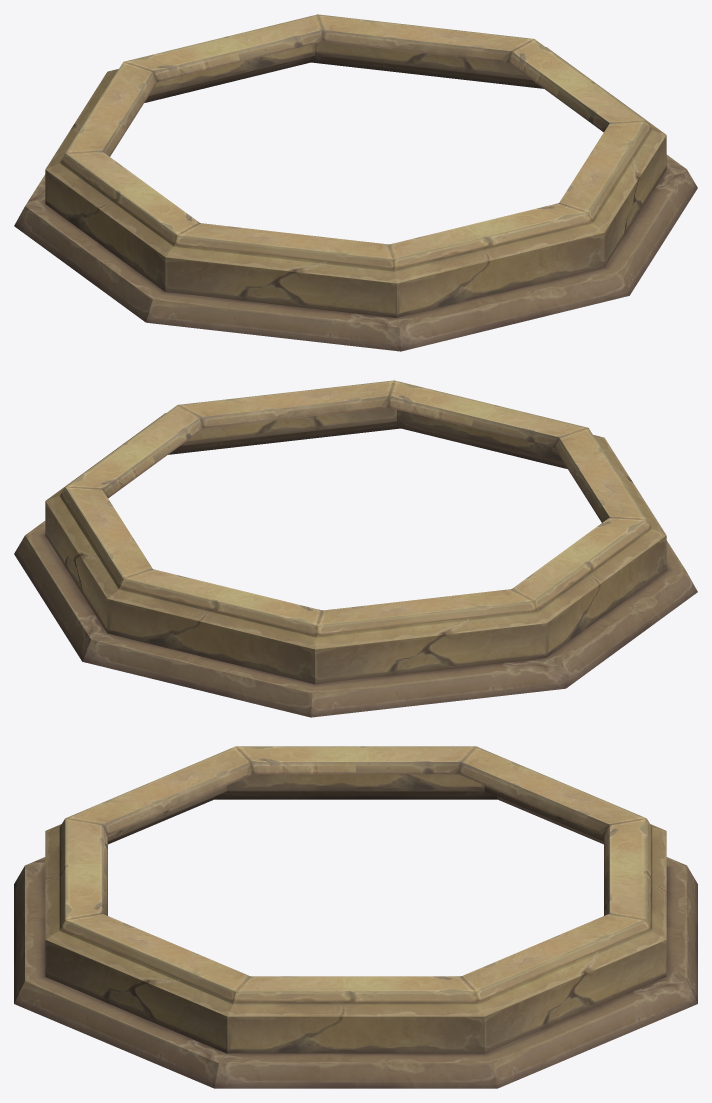
The model's file is Born02_Terrain_LostTemple_001.FBX.
The picture shows the model from 3 angles, top to bottom: view 1: azimuth 30°, elevation 25°; view 2: azimuth 150°, elevation 25°; view 3: azimuth 270°, elevation 25°; orthographic projection. The views are drawn at different scales.
Parts seen in each view (by area): view 1: Born02_Terrain_LostTemple_001; view 2: Born02_Terrain_LostTemple_001; view 3: Born02_Terrain_LostTemple_001.
Part boxes in pixels (x1,y1,x2,y2): Born02_Terrain_LostTemple_001: [14, 14, 697, 351]; Born02_Terrain_LostTemple_001: [14, 380, 697, 717]; Born02_Terrain_LostTemple_001: [14, 746, 697, 1088].
Size of the model in its own units: 1412 by 171 by 1412.
Materials: 1 (1 with a texture image).
